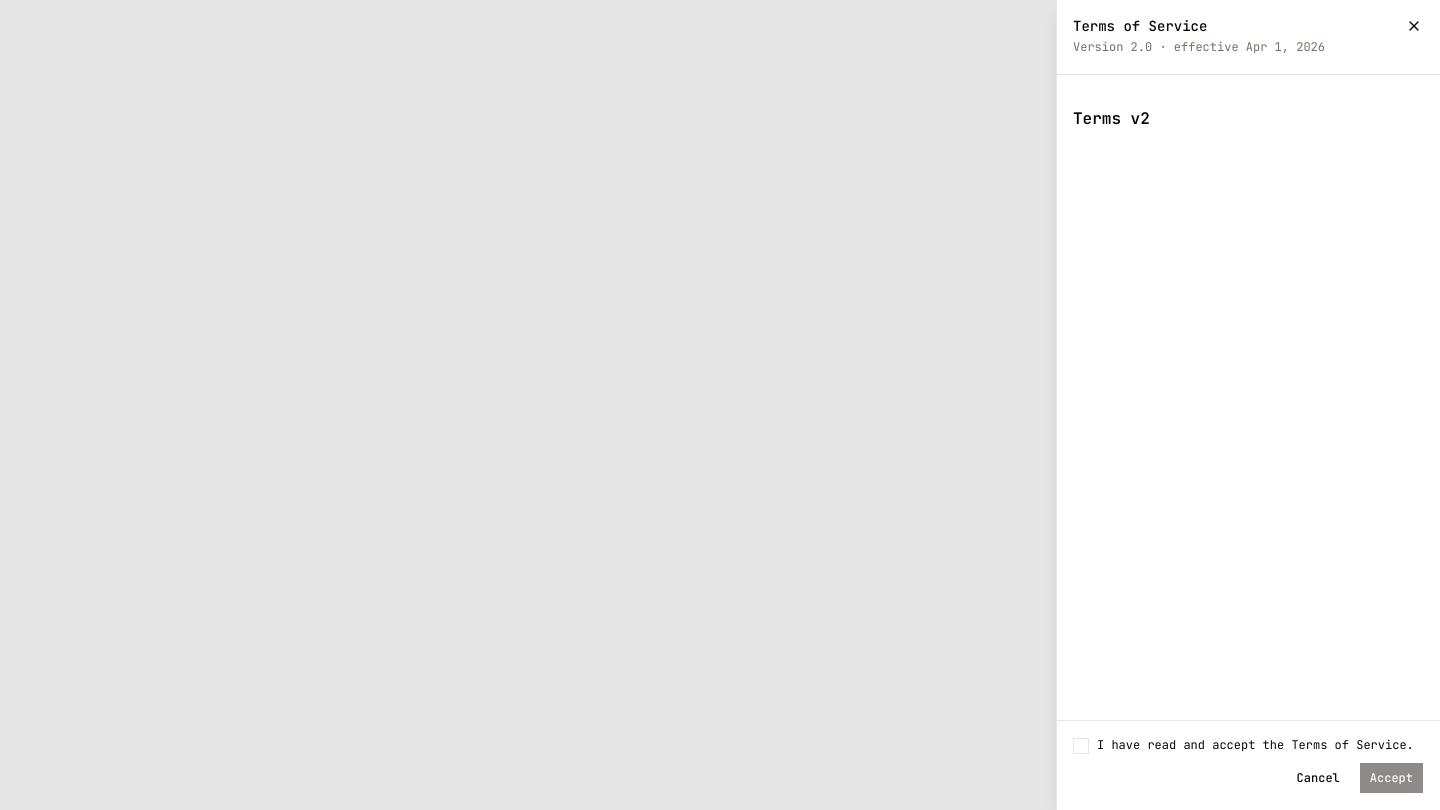
LegalDocumentSheet (accept mode) › disables Accept until the acknowledgement checkbox is ticked
This screenshot has width=1440, height=810.
Expected: the button "Accept" is disabled, [1359,762,1424,794]
Click the checkbox named "i have read and accept" at [1081, 746], box [1073,738,1089,754]
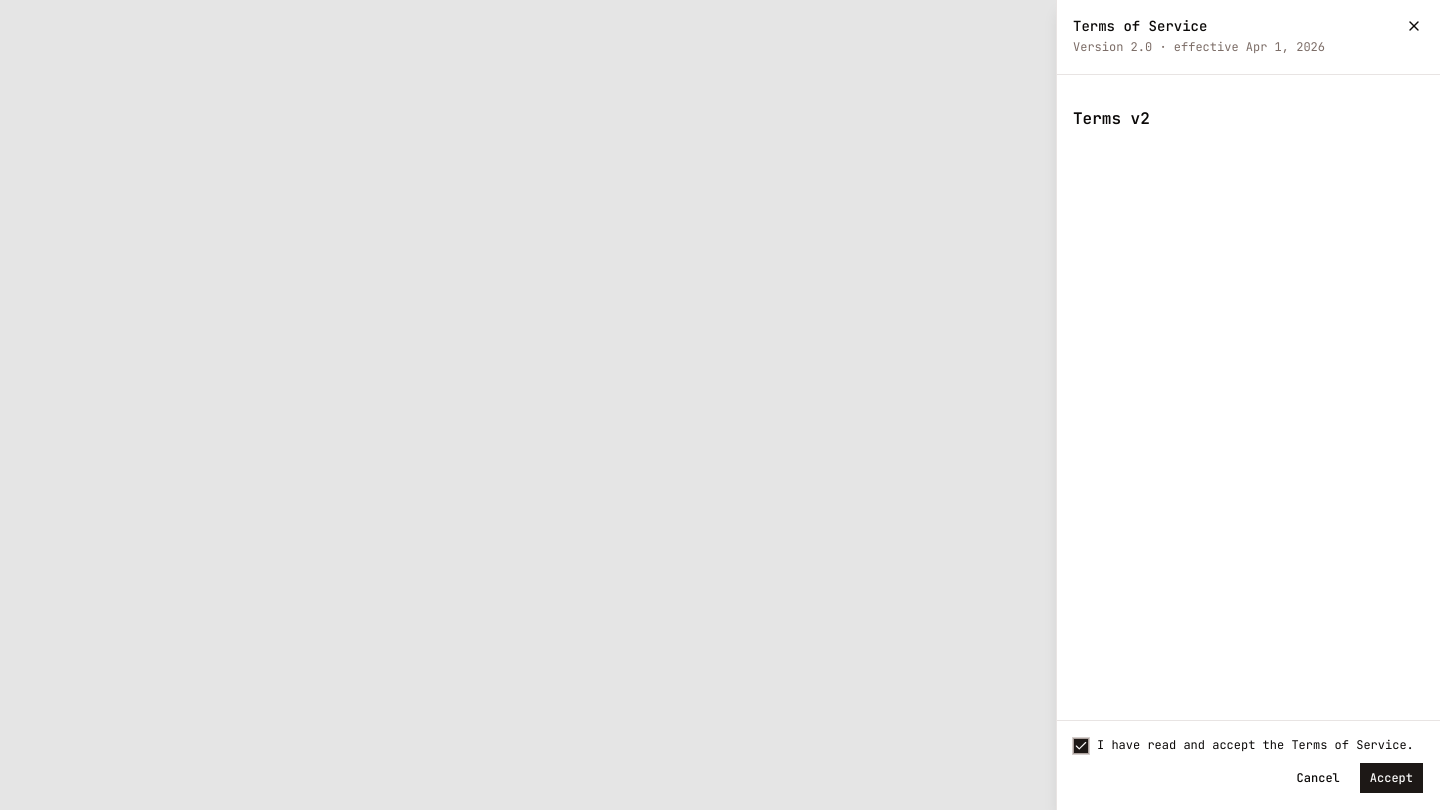
Expected: the button "Accept" is enabled, [1359,762,1424,794]
